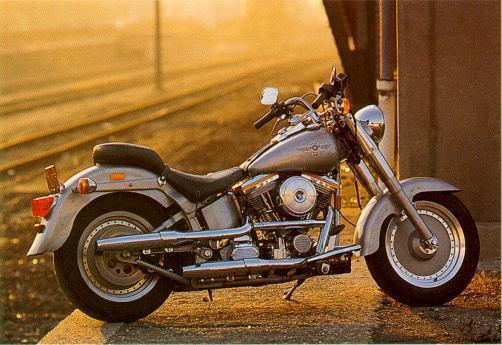motorcycle: (23, 56, 501, 326)
